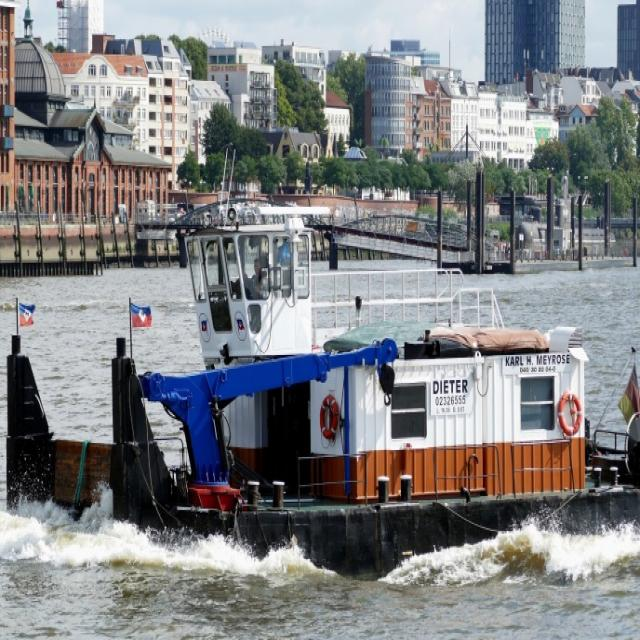tugboat: (4, 199, 640, 591)
